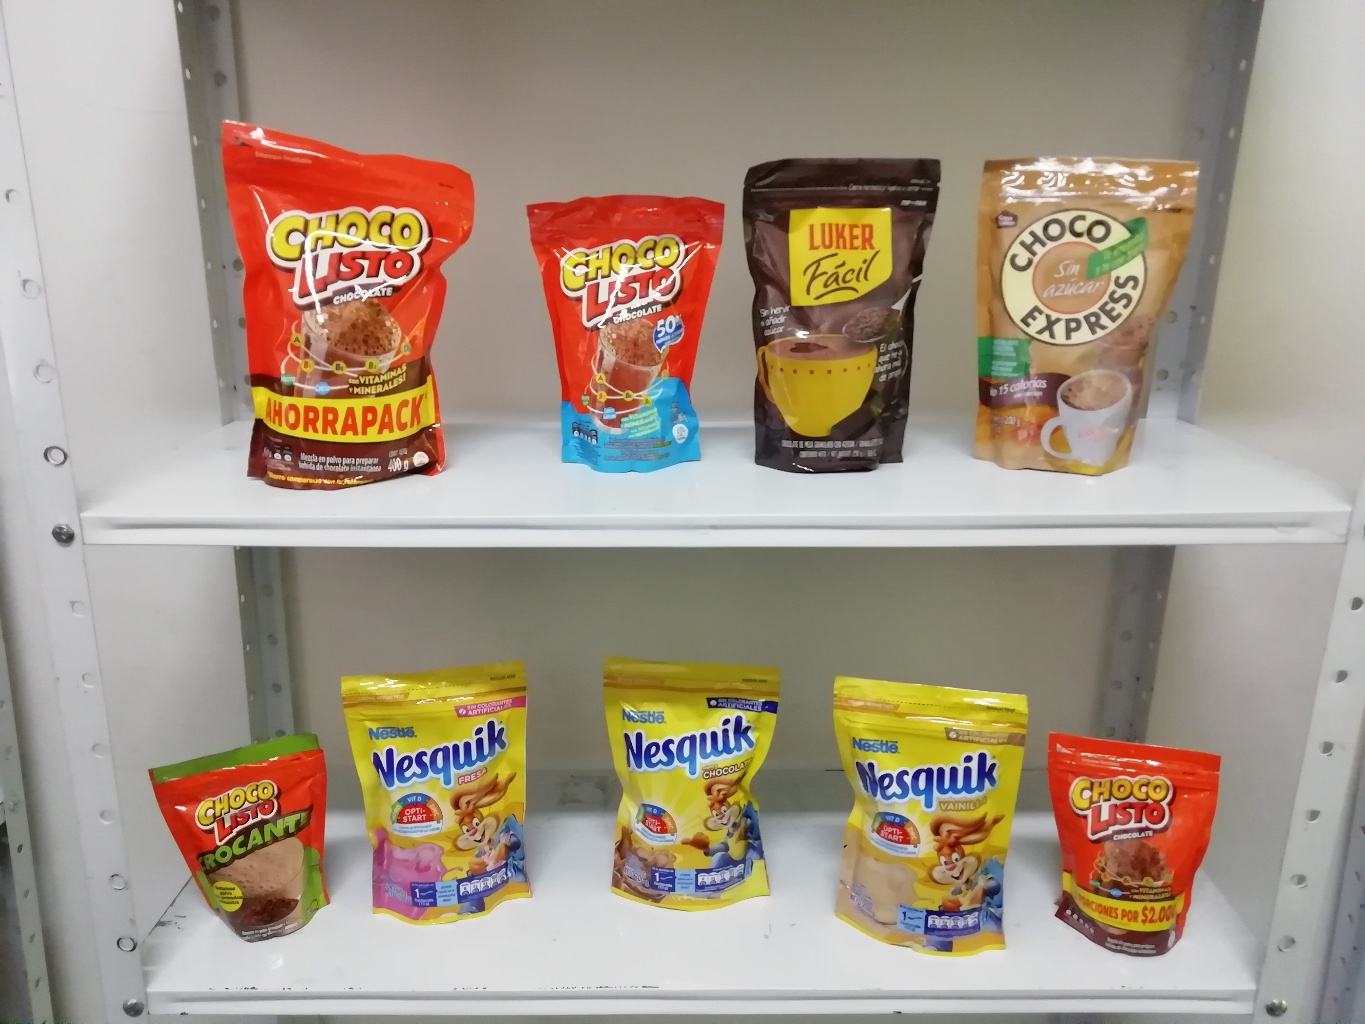COL0170102DYP10000: (132, 728, 358, 953)
COL0170103DYP10000: (1039, 719, 1243, 962)
COL0170103DYP40000: (201, 104, 485, 503)
COL0170104DYP20000: (517, 185, 738, 480)
COL0170303DYP20000: (589, 648, 804, 913)
COL0170305DYP20000: (327, 657, 552, 934)
COL0170306DYP20000: (817, 660, 1036, 962)
